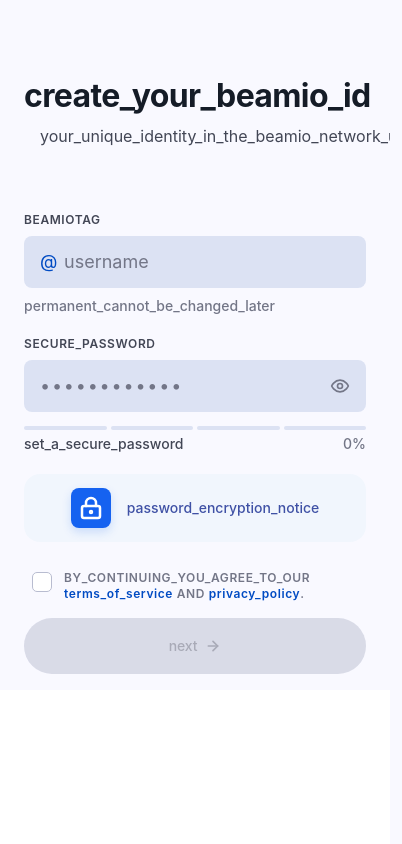
Test: browser branch: every failed attempt shows its error › a failure and then a success: the error is gone and the flow closes with the created account
Type "synthtag01" into the field with id "create-beamio-tag-input" at (195, 262), box 24,236 -> 366,288
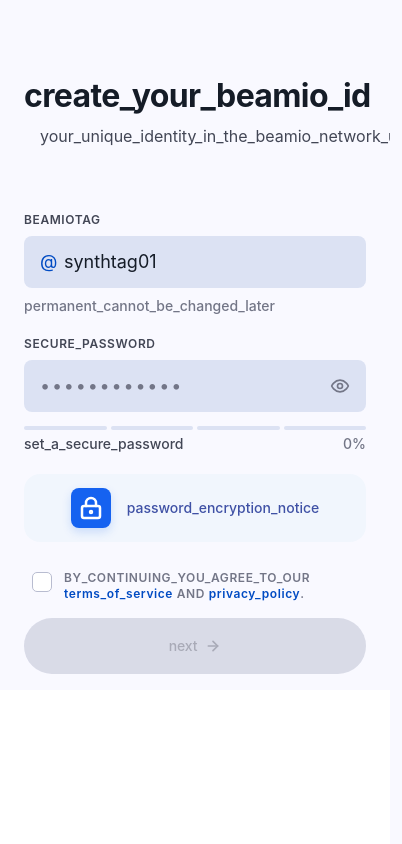
Type "Abcdefg1" into the password field with id "create-wallet-password" at (195, 386), box 24,360 -> 366,412
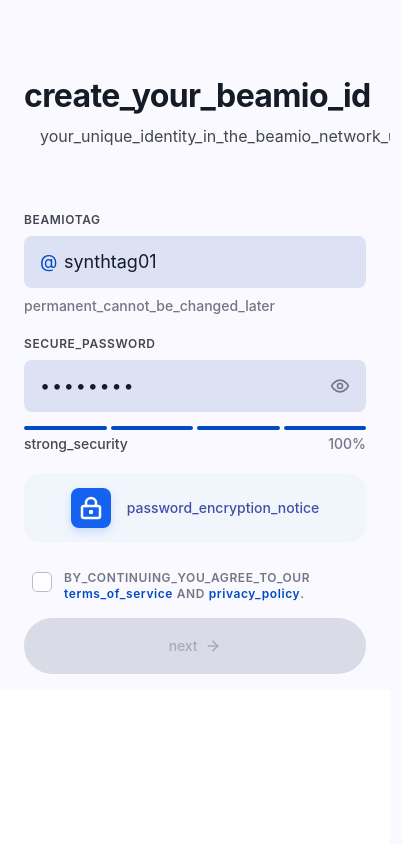
Click the checkbox at (42, 582), box 32,572 -> 52,592
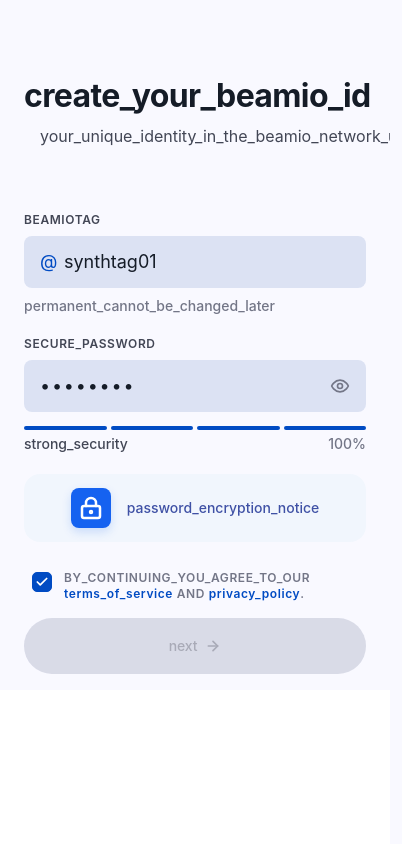
Leave the field with id "create-beamio-tag-input", box 24,236 -> 366,288
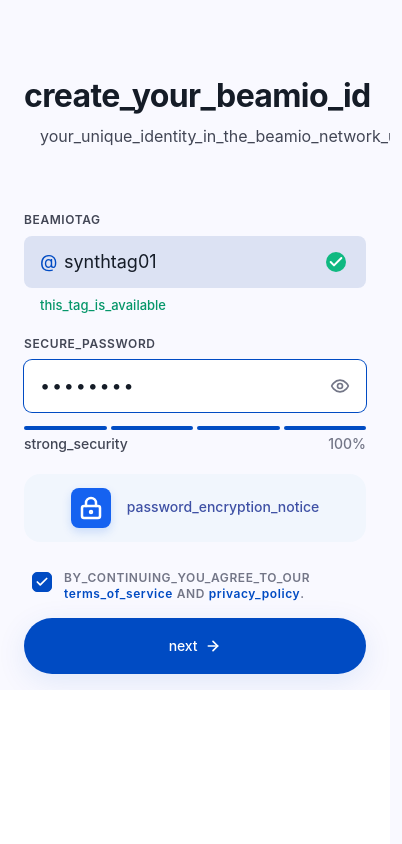
Now the button "next" is enabled
Click the button "next" at (195, 646), box 24,618 -> 366,674
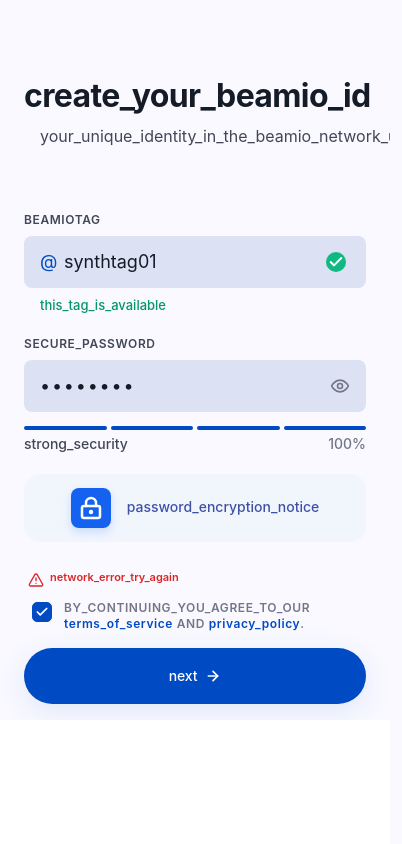
Now the button "next" is enabled
Now the text "network_error_try_again" is shown, box 50,570 -> 179,585
Click the button "next" at (195, 676), box 24,648 -> 366,704
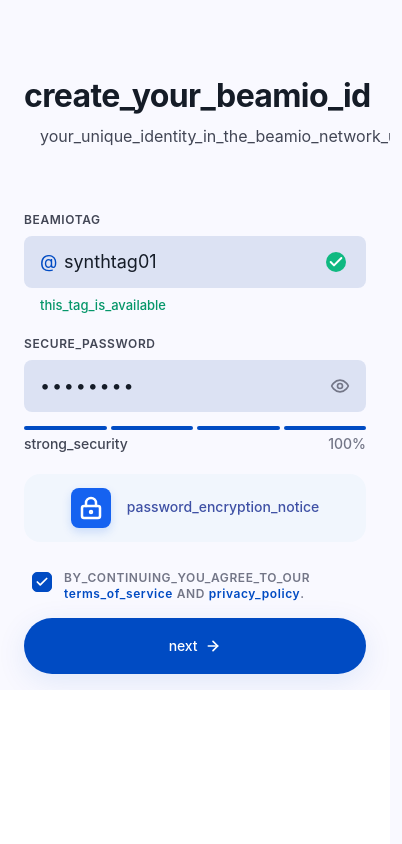
Now the text "network_error_try_again" is gone
